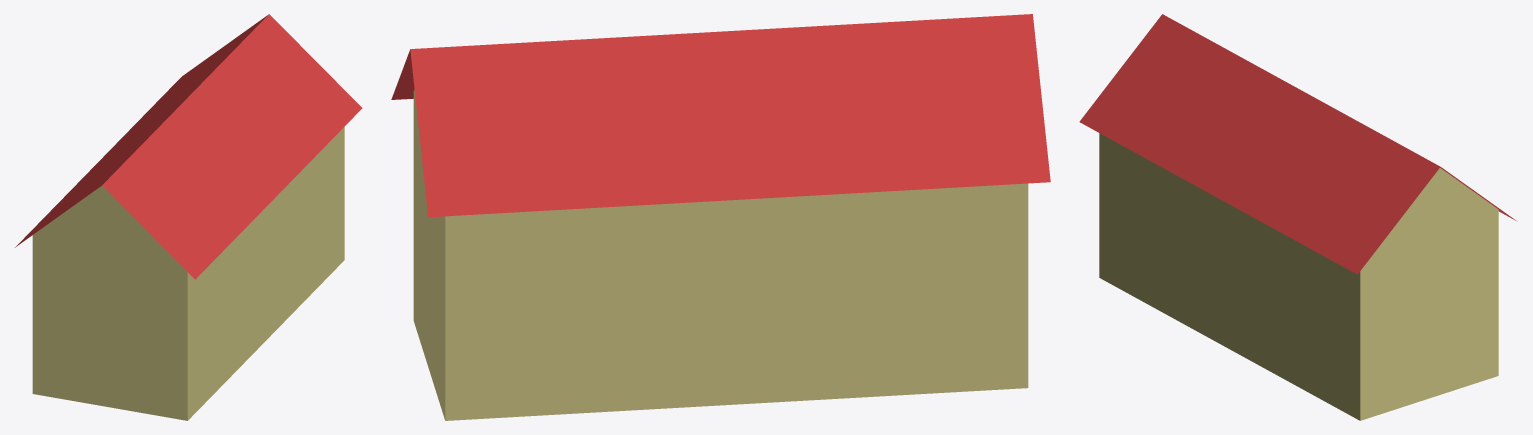
3 views of the same model, side by side, from view 1: azimuth 30°, elevation 25°; view 2: azimuth 150°, elevation 25°; view 3: azimuth 270°, elevation 25° (orthographic). The views are drawn at different scales.
Bounding box in the file's own units: 25.25 × 22.86 × 13.53.
